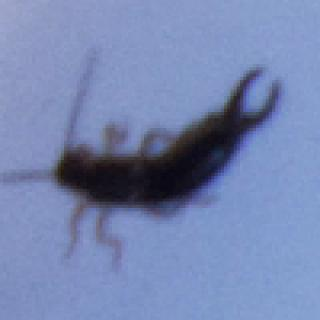earwig: (0, 45, 293, 277)
